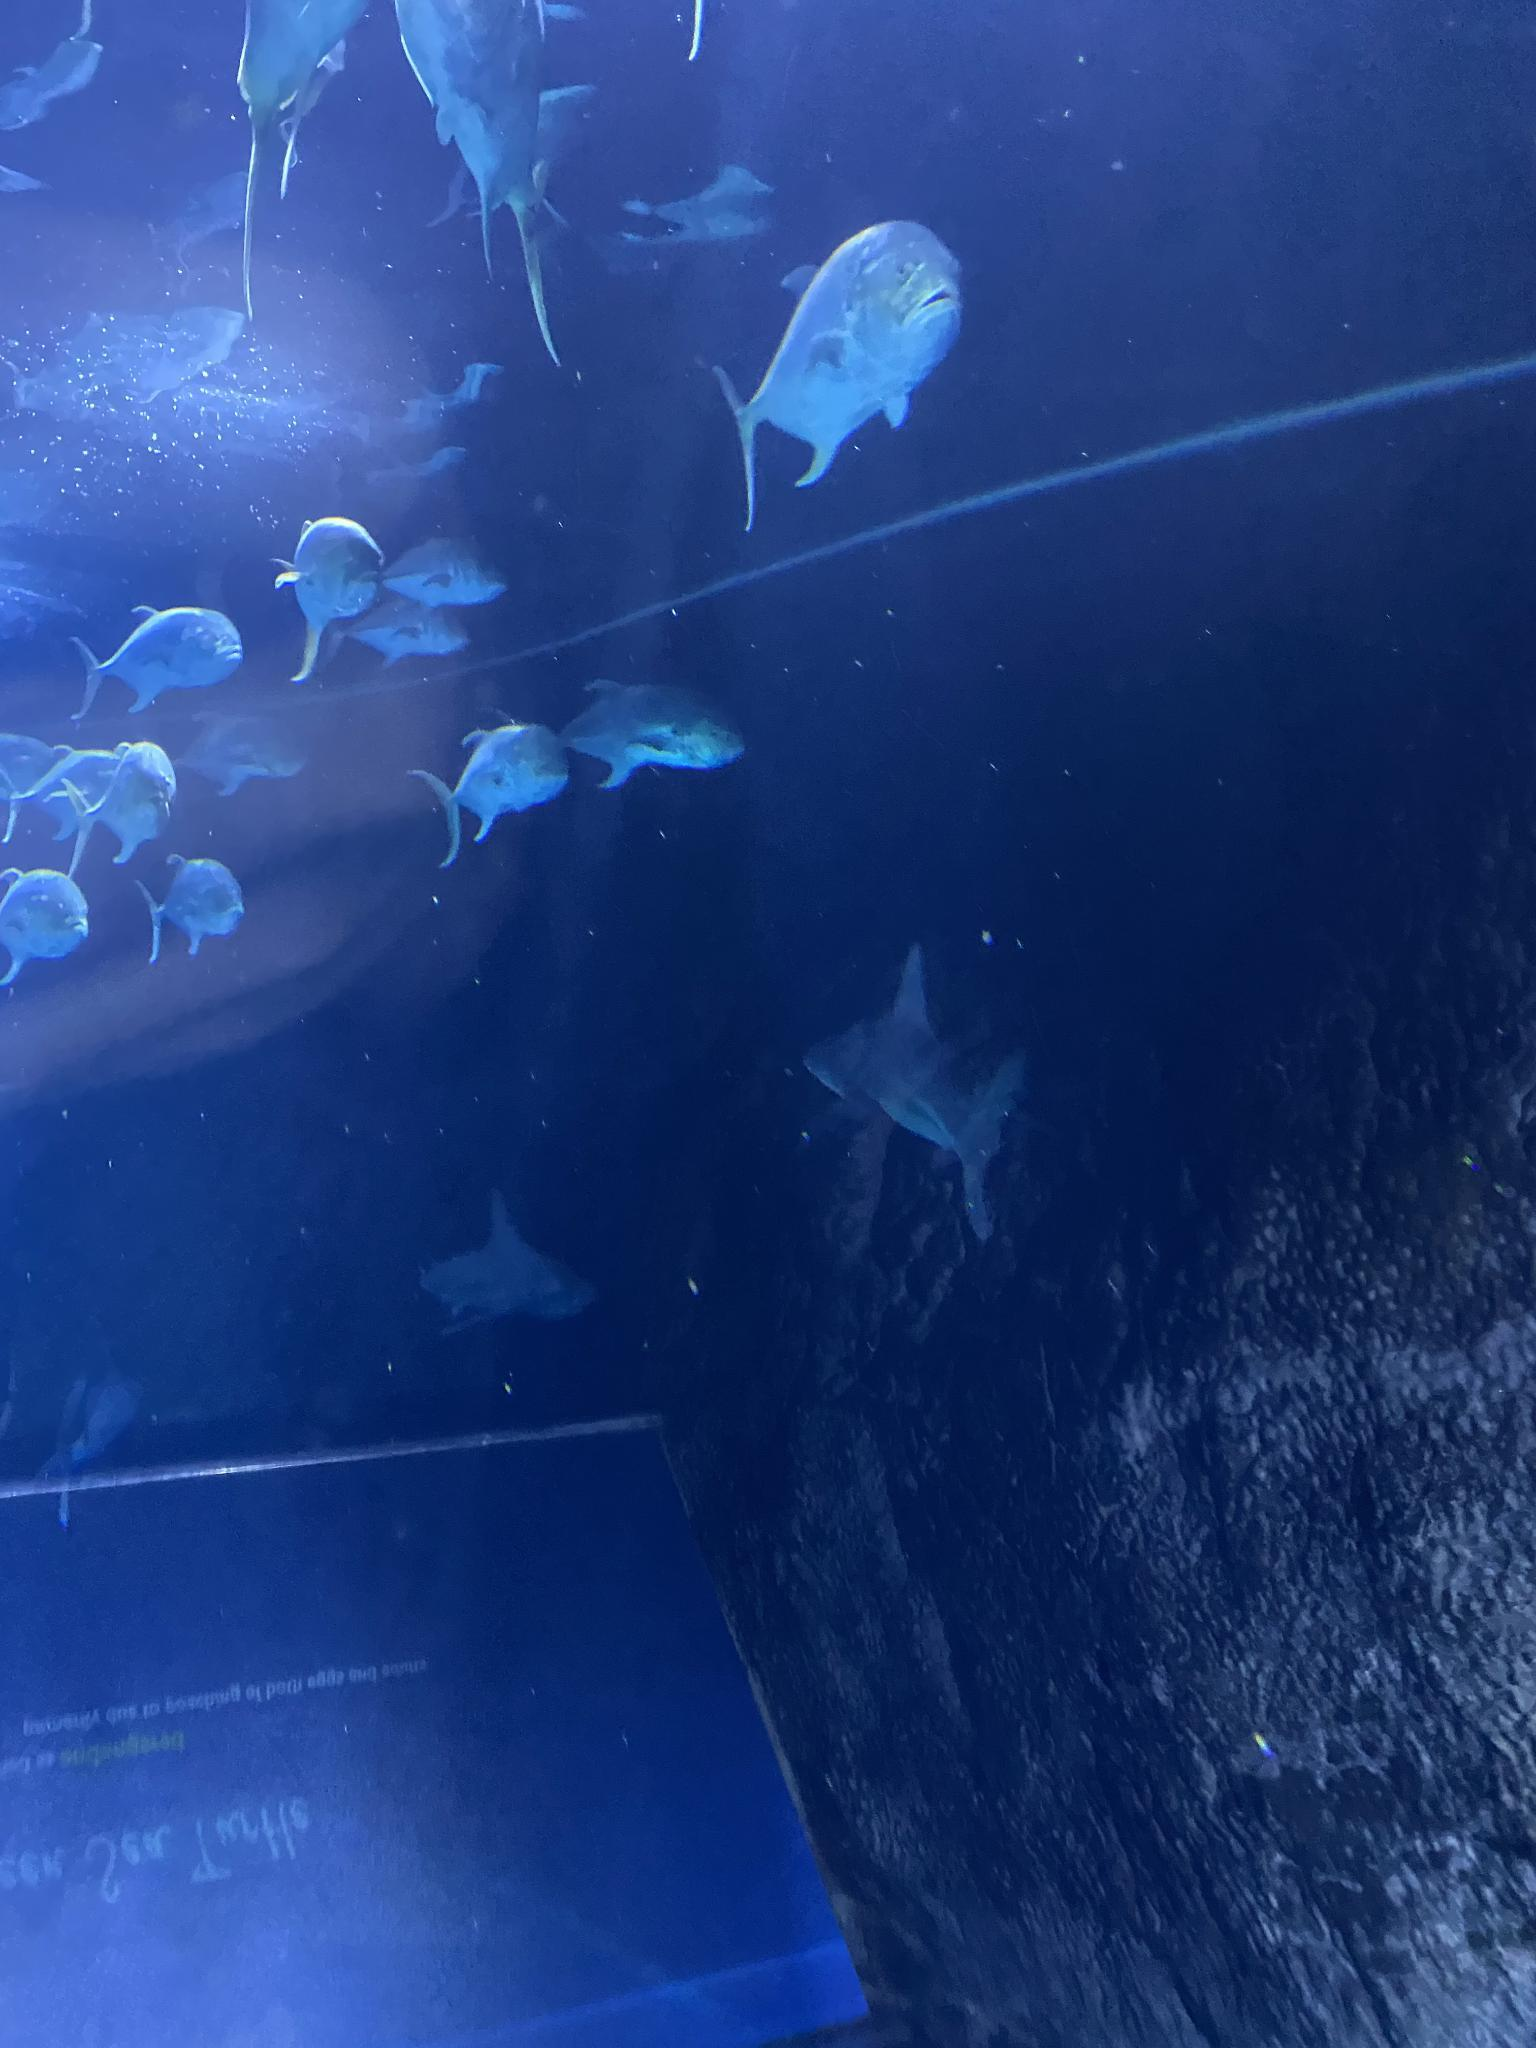fish: (708, 221, 962, 534), (390, 0, 603, 364), (237, 0, 374, 331), (482, 681, 742, 792), (407, 726, 570, 868), (68, 605, 242, 718), (273, 518, 381, 684), (63, 739, 177, 877), (132, 853, 245, 963), (2, 743, 121, 842), (173, 713, 311, 797), (319, 598, 471, 671), (0, 869, 90, 989), (384, 535, 508, 605)
shark: (802, 942, 1029, 1243), (423, 1188, 595, 1343)
